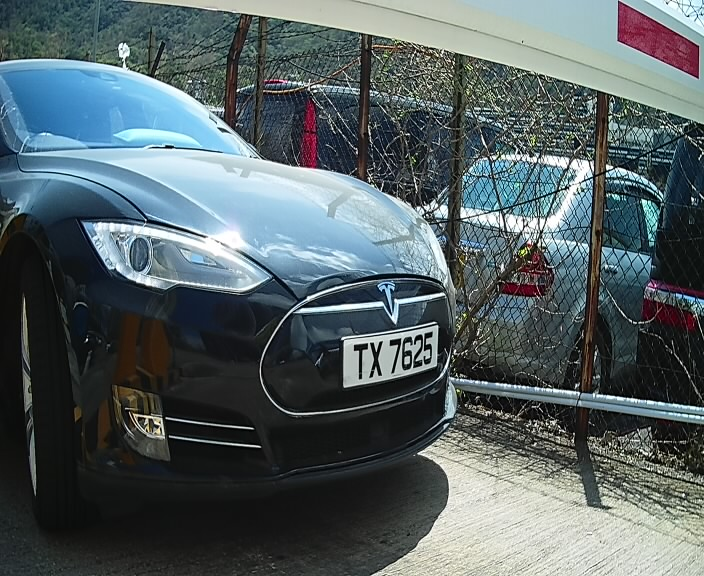License Plate: (333, 313, 445, 399)
